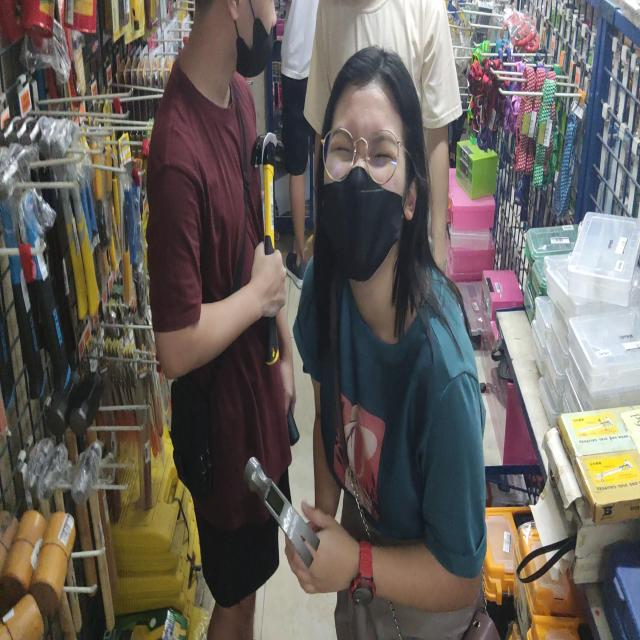hammer: (243, 456, 320, 568), (251, 132, 284, 366)
